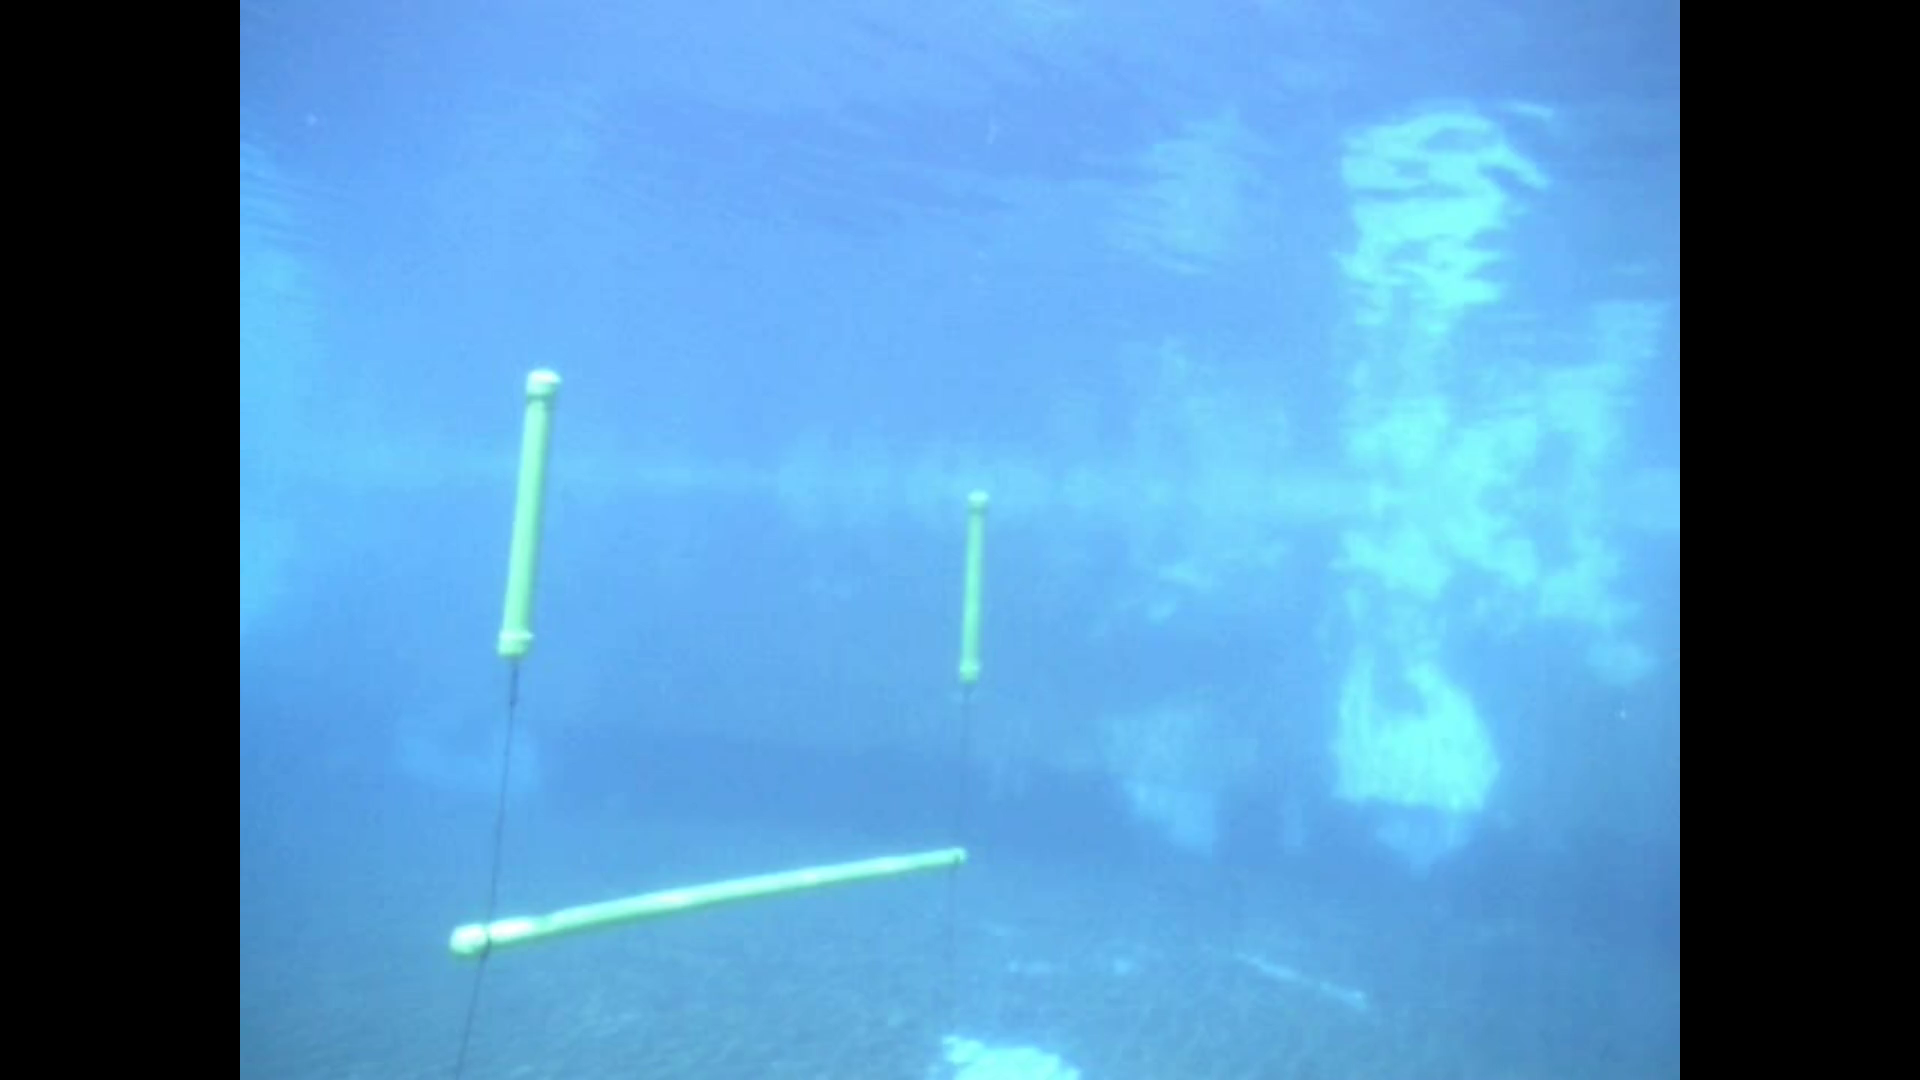gate: (446, 363, 997, 967)
